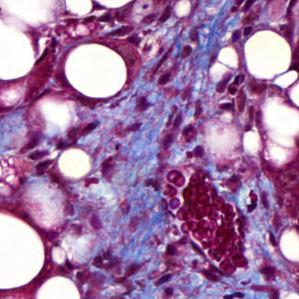steatosis: (0, 213, 48, 290), (66, 43, 128, 99)
